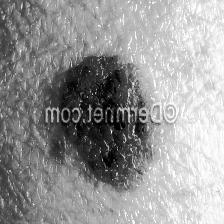Potentially Malignant Skin Tumors: (50, 125, 166, 187), (54, 56, 156, 106)
